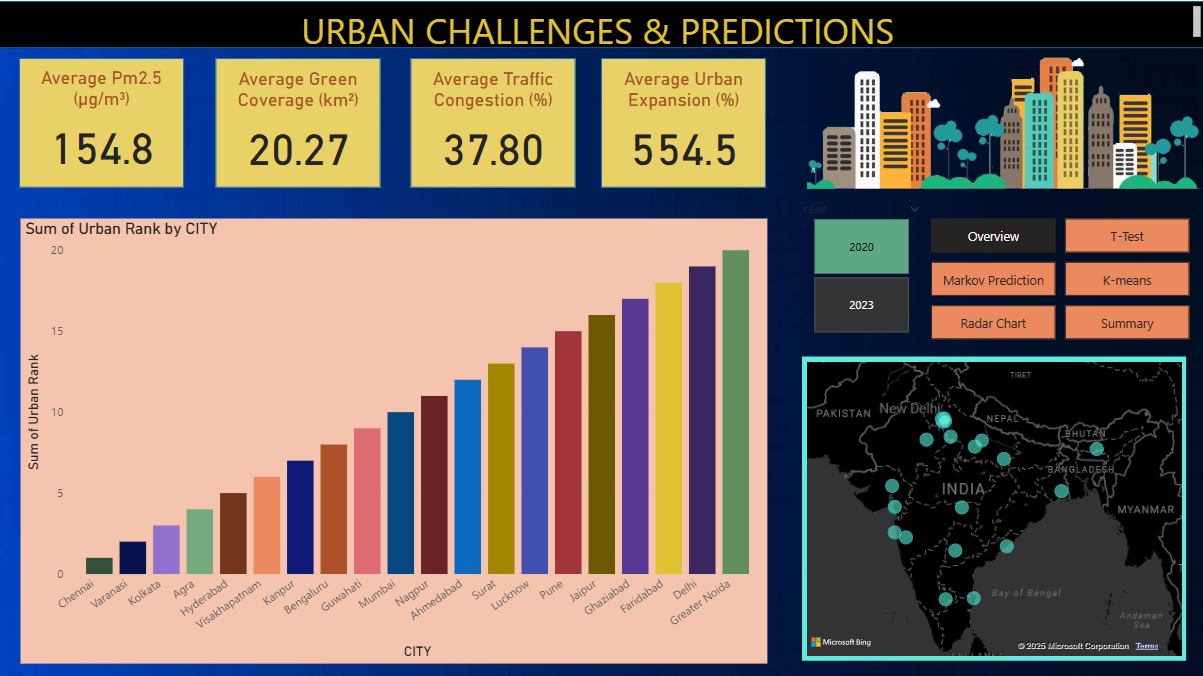

The page's visual inventory and layout, read from the dashboard file:
{"tool":"powerbi","page":{"name":"Overview","canvas":[1280,720],"ordinal":0},"visuals":[{"type":"image","box":[852.5,50,427.5,160],"z":0},{"type":"shape","box":[0,0,1280,50],"z":1000},{"type":"textbox","box":[0,0,1280,50],"z":2000},{"type":"shape","box":[640,60,175,137.5],"z":3000},{"type":"shape","box":[437.5,60,175,137.5],"z":4000},{"type":"shape","box":[230,60,175,137.5],"z":5000},{"type":"shape","box":[22.5,60,175,137.5],"z":6000},{"type":"map","fields":{"Category":["Sheet1.CITY"]},"box":[852.5,377.5,407.5,322.5],"z":7000},{"type":"pageNavigator","box":[989.4,230.6,275.2,128.8],"z":8000},{"type":"card","title":"Average Pm2.5 (µg/m³)","fields":{"Values":["Avg(Sheet1.Pm2.5 levels)"]},"box":[36.6,70,146.3,117.7],"z":9000},{"type":"card","title":"Average Green Coverage (km²)","fields":{"Values":["Avg(Sheet1.green coverage)"]},"box":[245,71.6,146.3,117.7],"z":10000},{"type":"card","title":"Average Traffic Congestion (%)","fields":{"Values":["Avg(Sheet1.Traffic congestion %)"]},"box":[451.7,71.6,146.3,117.7],"z":11000},{"type":"card","title":"Average Urban Expansion (%)","fields":{"Values":["Avg(Sheet1.urban expansion )"]},"box":[653.7,71.6,146.3,117.7],"z":12000},{"type":"clusteredColumnChart","fields":{"Category":["Sheet1.CITY"],"Y":["Sum(Sheet1.Urban Rank)"]},"box":[23.3,230,791.7,471.7],"z":13000},{"type":"slicer","fields":{"Values":["Sheet1.YEAR"]},"box":[840,210,150,148],"z":14000}]}

Visuals, with their boxes in screenshot pixels (x1, y1, x2, y2), scaled from the page's 1280x720 canvas onto the 1203x676 screenshot:
image: locate(801, 47, 1202, 197)
shape: locate(0, 0, 1202, 47)
textbox: locate(0, 0, 1202, 47)
shape: locate(602, 56, 766, 185)
shape: locate(411, 56, 576, 185)
shape: locate(216, 56, 381, 185)
shape: locate(21, 56, 186, 185)
map - Sheet1.CITY: locate(801, 354, 1184, 657)
pageNavigator: locate(930, 217, 1189, 337)
"Average Pm2.5 (µg/m³)" card: locate(34, 66, 172, 176)
"Average Green Coverage (km²)" card: locate(230, 67, 368, 178)
"Average Traffic Congestion (%)" card: locate(425, 67, 562, 178)
"Average Urban Expansion (%)" card: locate(614, 67, 752, 178)
clusteredColumnChart - Sheet1.CITY x Sum(Sheet1.Urban Rank): locate(22, 216, 766, 659)
slicer - Sheet1.YEAR: locate(789, 197, 930, 336)
